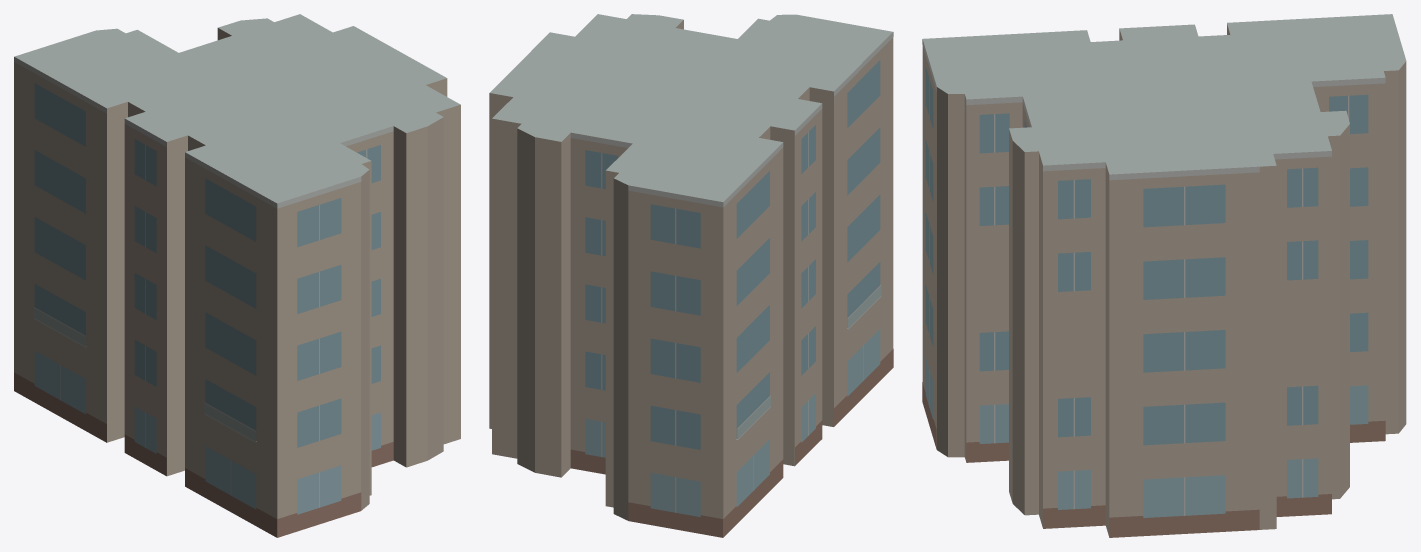
File: survey-upis-32993083.glb
3 renders of one model, left to right at view 1: azimuth 30°, elevation 25°; view 2: azimuth 150°, elevation 25°; view 3: azimuth 270°, elevation 25°, orthographic. The views are drawn at different scales.
Visible parts, largest first — view 1: survey-upis-32993083.tmp; view 2: survey-upis-32993083.tmp; view 3: survey-upis-32993083.tmp.
Boxes of the visible parts, x1,y1,x2,y2 form: survey-upis-32993083.tmp: (14,14,460,537); survey-upis-32993083.tmp: (489,14,893,537); survey-upis-32993083.tmp: (922,14,1406,537).
Size of the model in its own units: 14.8 by 15.6 by 18.84.
